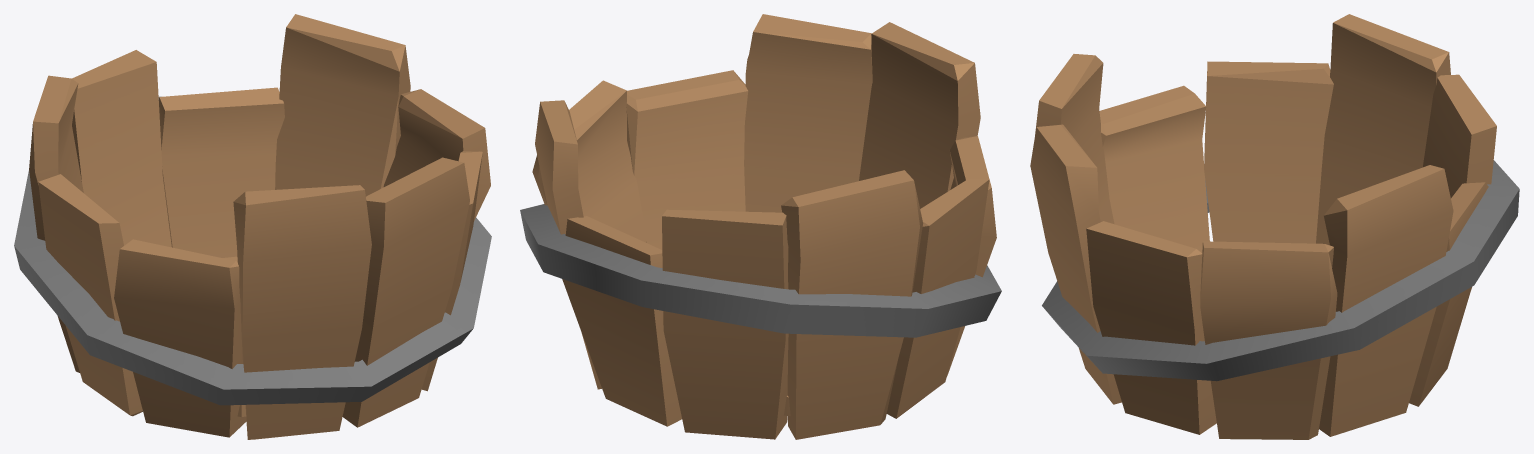
Rendered from Barrel_B.fbx.
The picture shows the model from 3 angles, left to right: view 1: azimuth 30°, elevation 25°; view 2: azimuth 150°, elevation 25°; view 3: azimuth 270°, elevation 25°; orthographic projection.
Parts seen in each view (by area): view 1: Barrel_B; view 2: Barrel_B; view 3: Barrel_B.
Part boxes in pixels (left/top/right/bottom): Barrel_B: left=14, top=14, right=491, bottom=439; Barrel_B: left=520, top=14, right=1001, bottom=439; Barrel_B: left=1030, top=14, right=1519, bottom=439.
Bounding box in the file's own units: 63.43 × 39 × 65.92.
